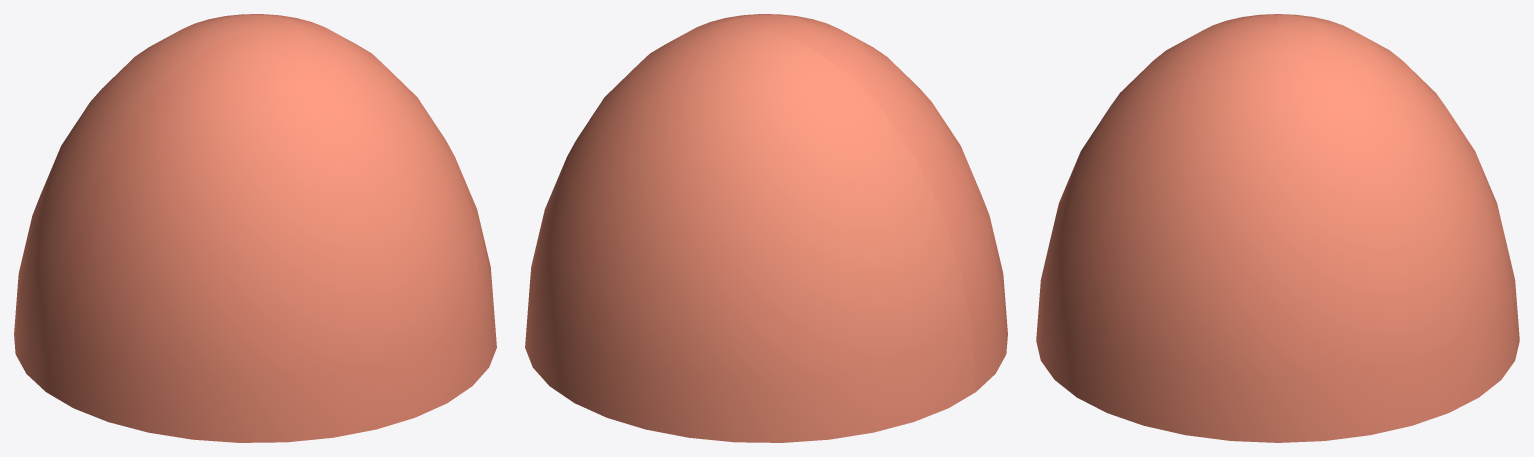
Rendered from SM_Mountain_1.fbx.
The picture shows the model from 3 angles, left to right: view 1: azimuth 30°, elevation 25°; view 2: azimuth 150°, elevation 25°; view 3: azimuth 270°, elevation 25°; orthographic projection.
Parts seen in each view (by area): view 1: SM_Mountain_1; view 2: SM_Mountain_1; view 3: SM_Mountain_1.
Boxes of the visible parts, x1,y1,x2,y2 form: SM_Mountain_1: [14, 14, 496, 442]; SM_Mountain_1: [525, 14, 1007, 442]; SM_Mountain_1: [1036, 14, 1519, 442].
Bounding box in the file's own units: 1373 × 975 × 1373.
